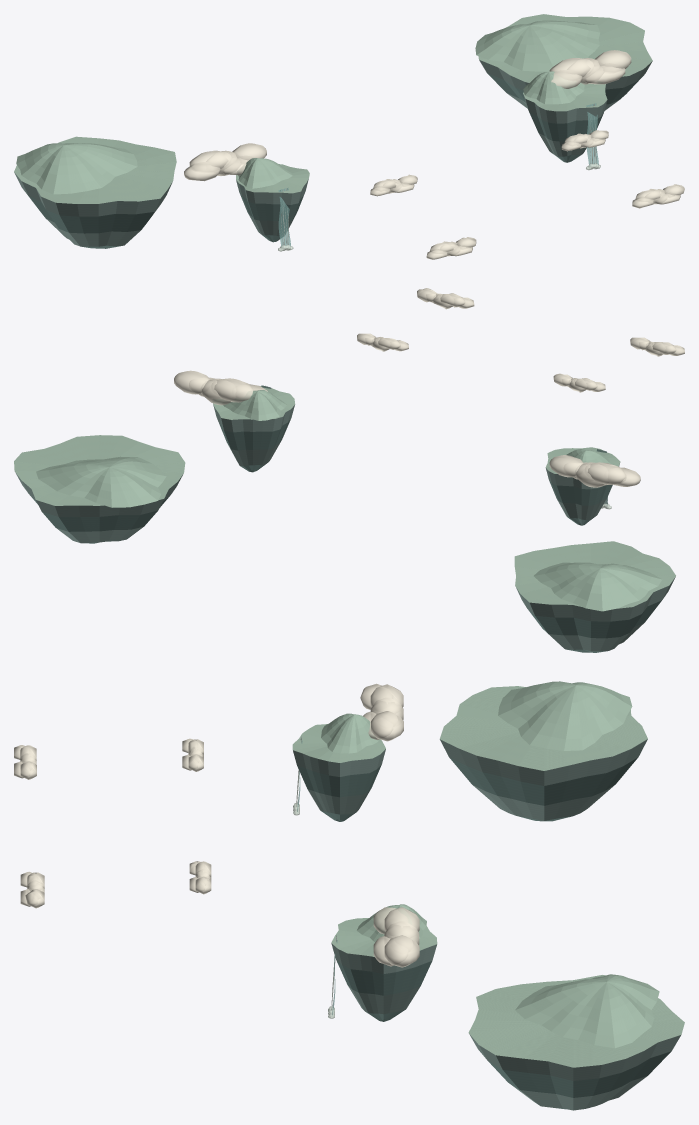
The picture shows the model from 3 angles, top to bottom: view 1: azimuth 30°, elevation 25°; view 2: azimuth 150°, elevation 25°; view 3: azimuth 270°, elevation 25°; orthographic projection. The views are drawn at different scales.
Visible parts, largest first — view 1: environment_Muted moss ledges, environment_Porcelain cloud banks, environment_Distant cool sandstone, environment_Distant stratified deep rock, environment_Turquoise waterfall ribbons, environment_Pale waterfall foam; view 2: environment_Muted moss ledges, environment_Distant cool sandstone, environment_Porcelain cloud banks, environment_Distant stratified deep rock; view 3: environment_Muted moss ledges, environment_Distant cool sandstone, environment_Distant stratified deep rock, environment_Porcelain cloud banks.
Part boxes in pixels (left/top/right/bottom): environment_Muted moss ledges: left=14, top=14, right=652, bottom=203; environment_Porcelain cloud banks: left=184, top=50, right=684, bottom=259; environment_Distant cool sandstone: left=14, top=60, right=652, bottom=246; environment_Distant stratified deep rock: left=26, top=73, right=643, bottom=248; environment_Turquoise waterfall ribbons: left=278, top=103, right=598, bottom=246; environment_Pale waterfall foam: left=278, top=103, right=600, bottom=251; environment_Muted moss ledges: left=14, top=386, right=675, bottom=611; environment_Distant cool sandstone: left=15, top=404, right=675, bottom=651; environment_Porcelain cloud banks: left=174, top=288, right=684, bottom=487; environment_Distant stratified deep rock: left=30, top=419, right=661, bottom=652; environment_Muted moss ledges: left=292, top=681, right=684, bottom=1067; environment_Distant cool sandstone: left=293, top=739, right=680, bottom=1110; environment_Distant stratified deep rock: left=297, top=757, right=671, bottom=1109; environment_Porcelain cloud banks: left=14, top=683, right=419, bottom=967.
Size of the model in its own units: 61.3 by 12.7 by 46.01.
Materials: 6 (6 with a texture image).
